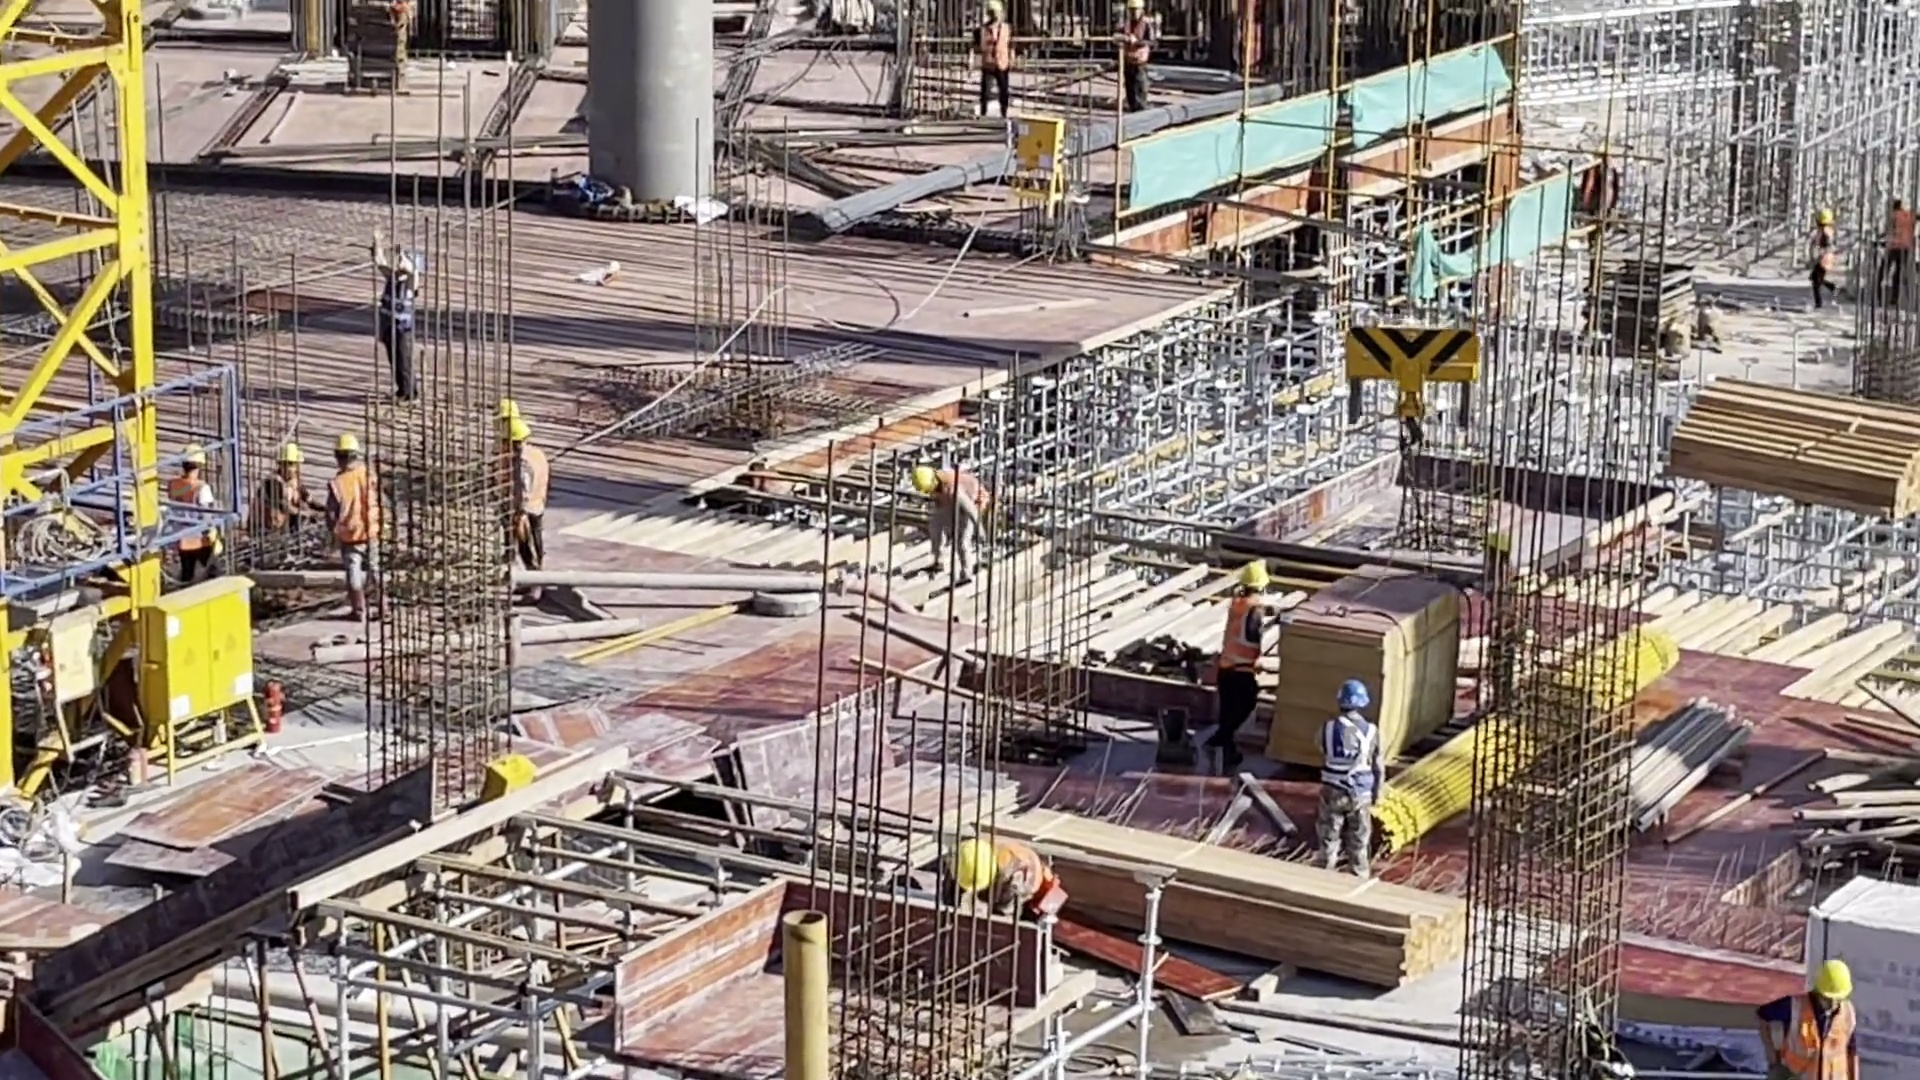helmet: (901, 462, 944, 511), (953, 842, 1009, 876), (1808, 206, 1846, 246), (178, 437, 218, 474), (1326, 686, 1369, 716), (401, 232, 431, 274), (1816, 957, 1856, 989), (1246, 554, 1271, 596), (346, 429, 376, 462), (973, 1, 1007, 24), (1903, 174, 1919, 222), (279, 447, 318, 466), (509, 407, 533, 434), (504, 399, 521, 416), (1126, 1, 1136, 16)
person: (1743, 953, 1860, 1080), (1305, 672, 1377, 875), (314, 428, 388, 613), (1211, 545, 1265, 772), (952, 829, 1061, 938), (910, 448, 994, 580), (369, 228, 430, 406), (514, 423, 571, 601), (165, 439, 229, 583), (246, 434, 318, 553), (966, 1, 1020, 120), (1104, 1, 1159, 106), (1867, 190, 1917, 300), (488, 397, 518, 523), (1803, 205, 1838, 304)
vest: (473, 427, 551, 541), (951, 24, 1028, 104), (996, 826, 1066, 911), (1769, 997, 1859, 1062), (336, 474, 391, 557), (1331, 699, 1378, 791), (176, 472, 218, 554), (1234, 586, 1269, 672), (1106, 16, 1153, 79), (378, 279, 419, 346), (268, 472, 309, 537), (1874, 211, 1911, 254), (966, 467, 986, 541), (1803, 231, 1824, 274)
